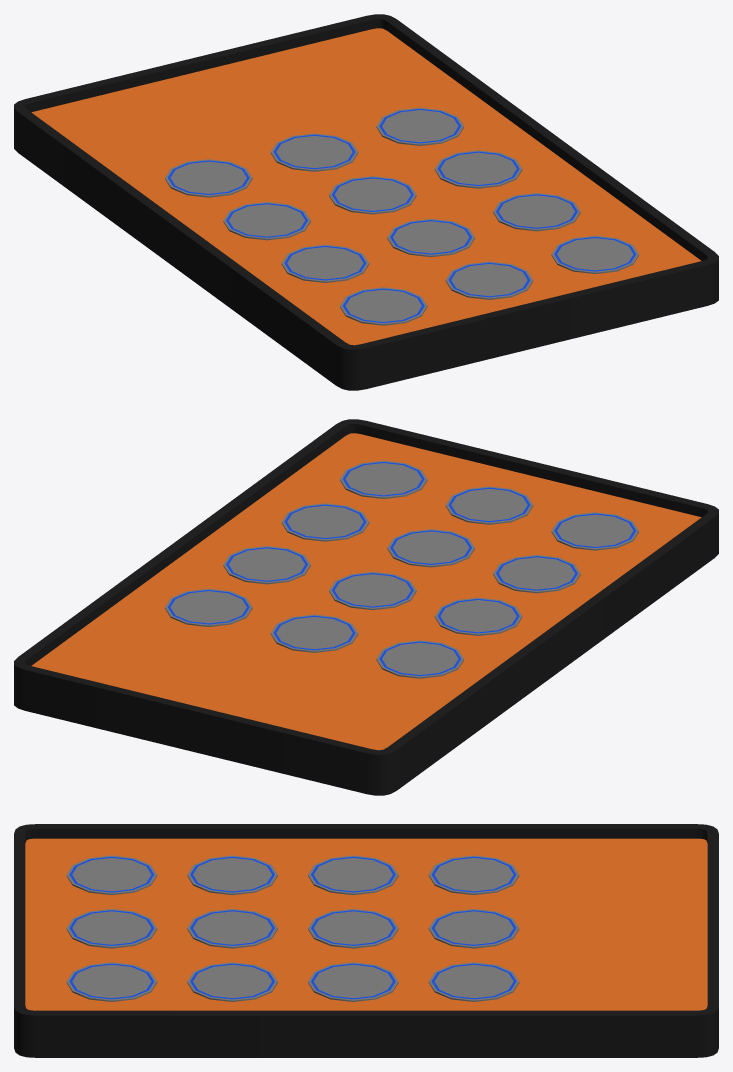
File: Keylock.fbx
3 renders of one model, top to bottom at view 1: azimuth 30°, elevation 25°; view 2: azimuth 150°, elevation 25°; view 3: azimuth 270°, elevation 25°, orthographic. The views are drawn at different scales.
Visible parts, largest first — view 1: Box026, Cylinder062, Cylinder053, Cylinder058, Cylinder060, Cylinder055, Cylinder057, Cylinder051, Cylinder056, Cylinder061, Cylinder059, Cylinder054 (+1 smaller); view 2: Box026, Cylinder055, Cylinder062, Cylinder051, Cylinder053, Cylinder054, Cylinder058, Cylinder059, Cylinder056, Cylinder060, Cylinder052, Cylinder061 (+1 smaller); view 3: Box026, Cylinder060, Cylinder051, Cylinder052, Cylinder057, Cylinder061, Cylinder058, Cylinder062, Cylinder053, Cylinder055, Cylinder054, Cylinder059 (+1 smaller).
Part boxes in pixels (box(x1,y1,x2,y2)): Box026: box(14, 14, 718, 390); Cylinder062: box(165, 159, 252, 197); Cylinder053: box(340, 287, 427, 325); Cylinder058: box(434, 150, 522, 188); Cylinder060: box(270, 133, 358, 171); Cylinder055: box(493, 193, 580, 231); Cylinder057: box(329, 176, 416, 214); Cylinder051: box(445, 261, 533, 299); Cylinder056: box(281, 244, 369, 282); Cylinder061: box(376, 107, 463, 145); Cylinder059: box(223, 202, 310, 240); Cylinder054: box(387, 219, 474, 257); Box026: box(14, 419, 718, 795); Cylinder055: box(281, 503, 369, 541); Cylinder062: box(376, 640, 463, 678); Cylinder051: box(445, 486, 533, 524); Cylinder053: box(551, 512, 638, 550); Cylinder054: box(387, 529, 474, 567); Cylinder058: box(223, 546, 310, 584); Cylinder059: box(434, 597, 522, 635); Cylinder056: box(493, 555, 580, 593); Cylinder060: box(270, 614, 358, 652); Cylinder052: box(340, 460, 427, 498); Cylinder061: box(165, 588, 252, 626); Box026: box(14, 824, 718, 1057); Cylinder060: box(428, 909, 519, 948); Cylinder051: box(66, 909, 157, 948); Cylinder052: box(66, 962, 157, 1001); Cylinder057: box(308, 909, 398, 948); Cylinder061: box(428, 962, 519, 1001); Cylinder058: box(308, 962, 398, 1001); Cylinder062: box(428, 855, 519, 894); Cylinder053: box(66, 855, 157, 895); Cylinder055: box(187, 962, 277, 1001); Cylinder054: box(187, 909, 277, 948); Cylinder059: box(308, 855, 398, 895).
Bounding box in the file's own units: 39.97 × 4.12 × 62.18.
